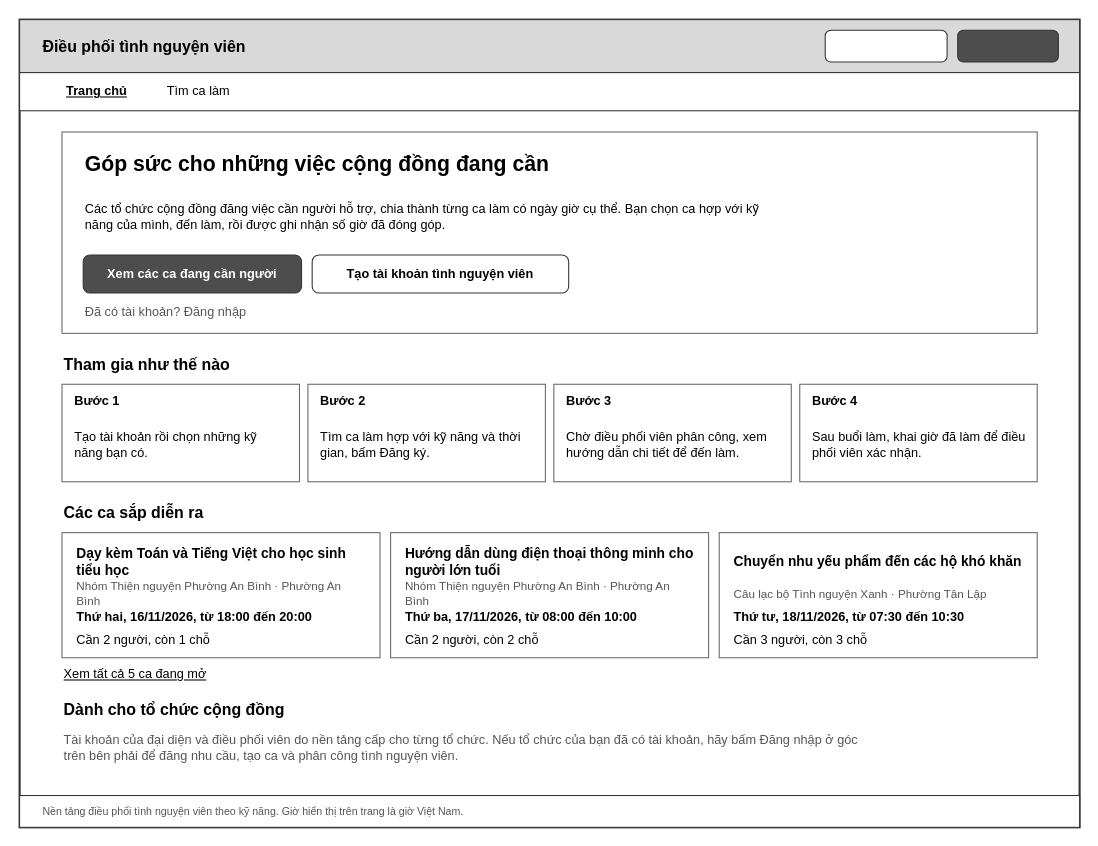
Image size: 1098x846. Some labels were removed from this diagram. Each missing label, with the centre of its shape:
Tạo tài khoản: the point at 885,45
Đăng nhập: the point at 1007,45
